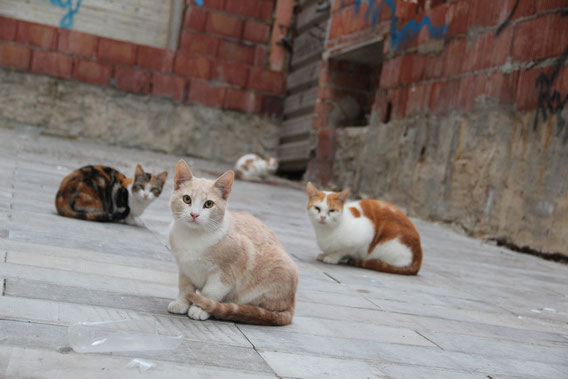cat: (165, 159, 301, 351), (303, 177, 434, 285), (36, 151, 168, 231), (231, 150, 289, 190)
